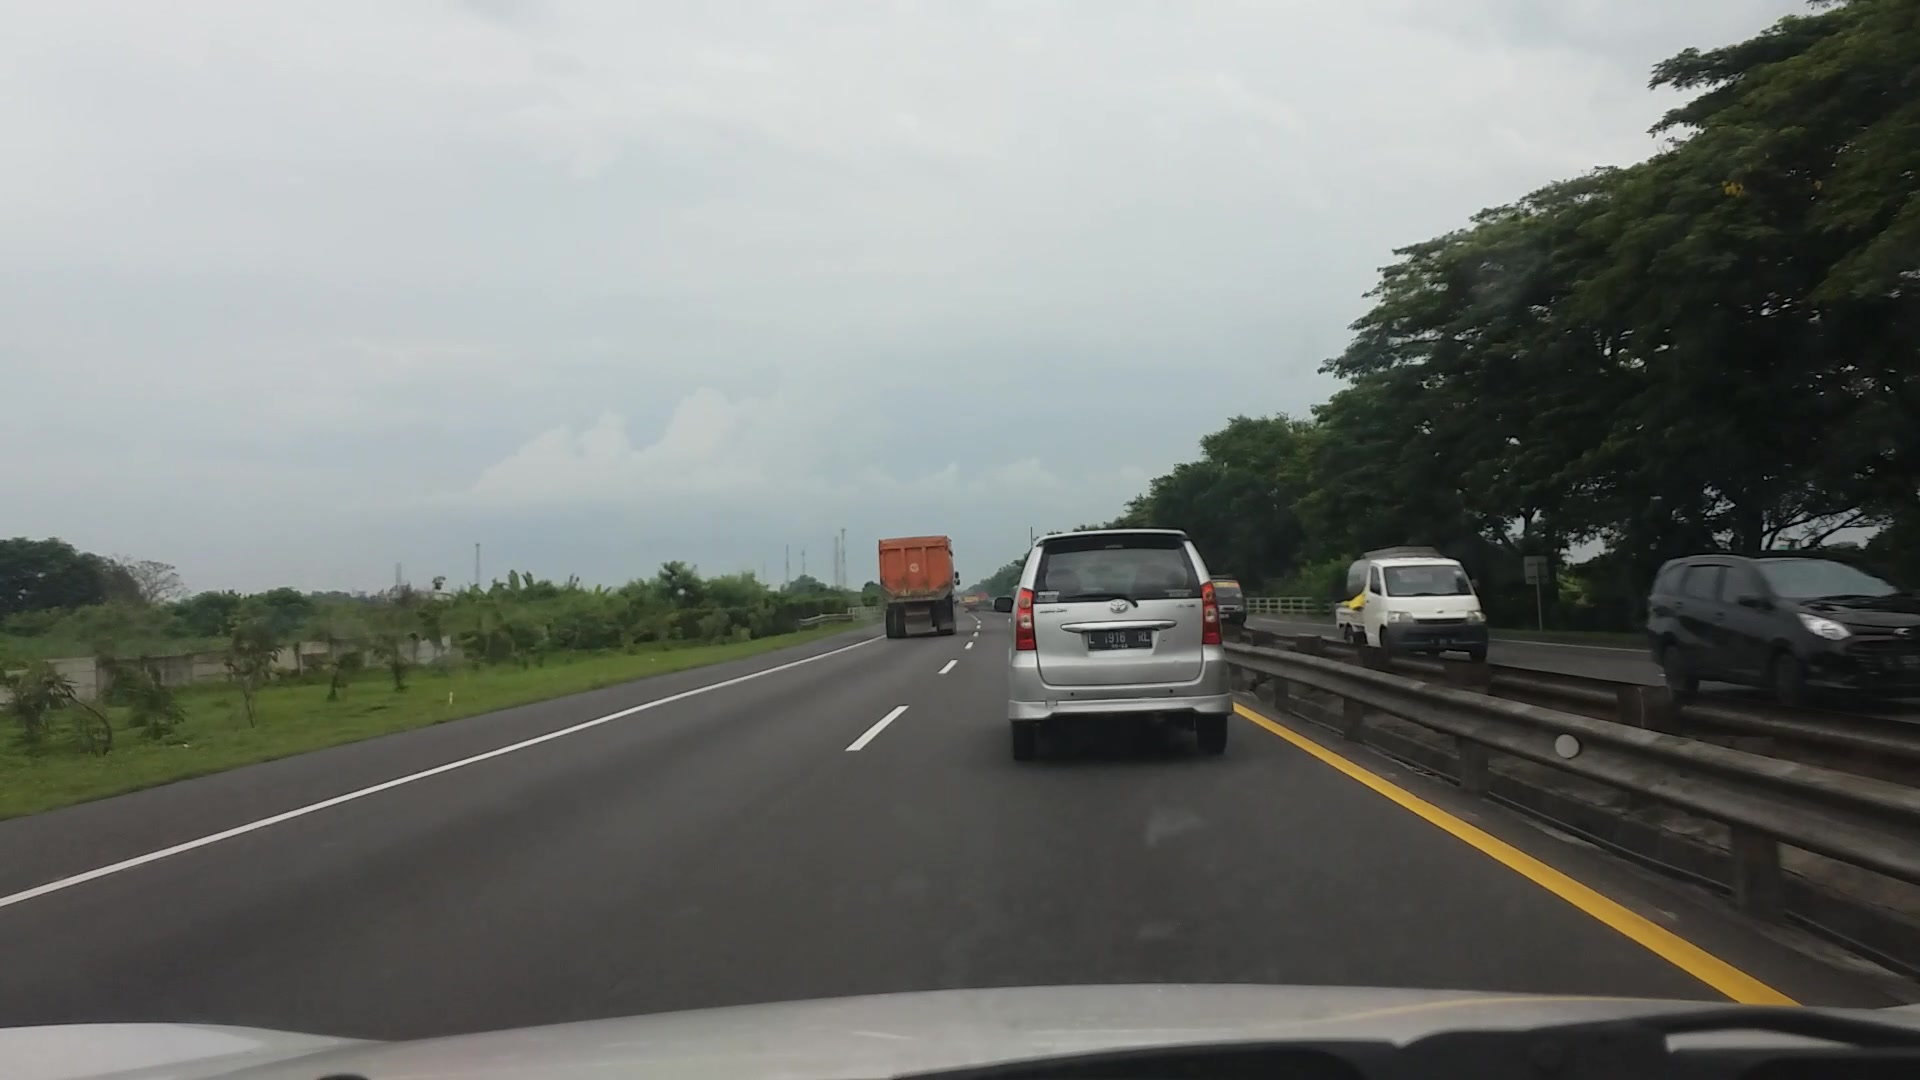plate_positive: (1087, 630, 1153, 650)
